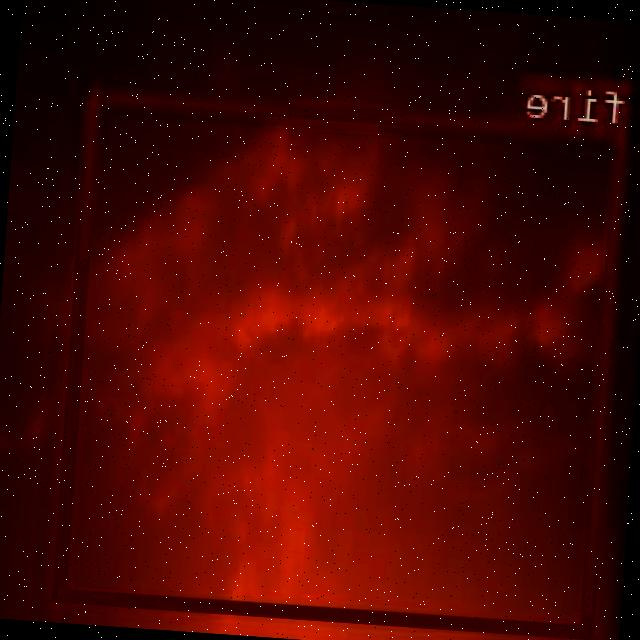fire: (56, 88, 629, 635)
